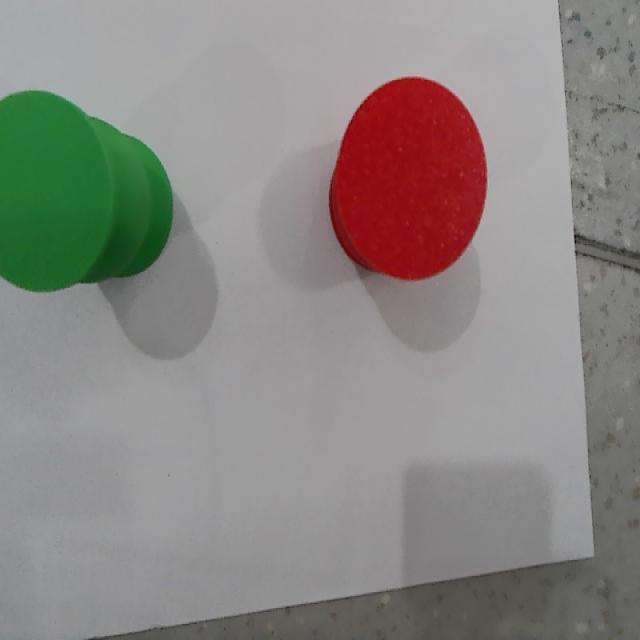r: (337, 77, 488, 280)
